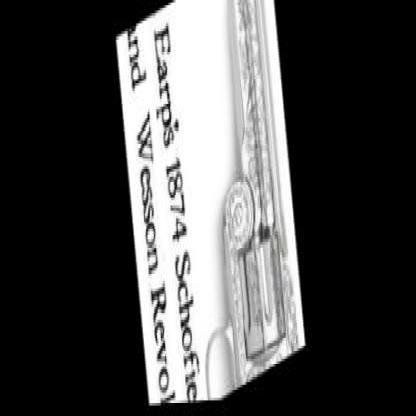pistol: (128, 0, 305, 400)
